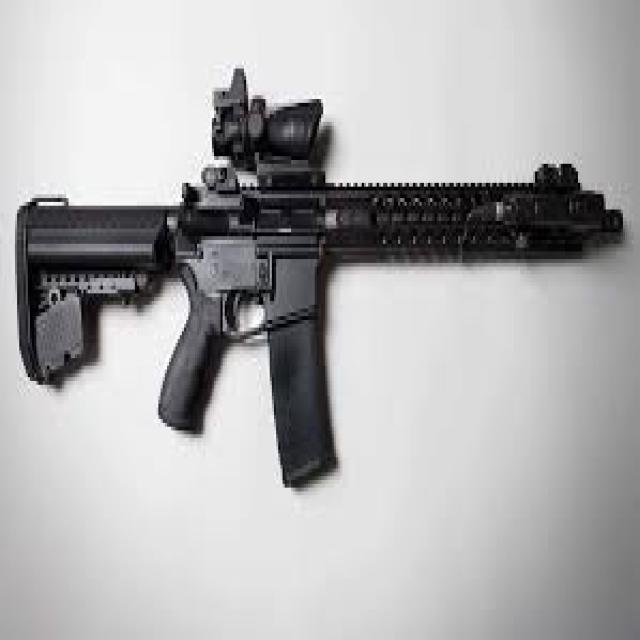gun: (10, 61, 640, 499)
